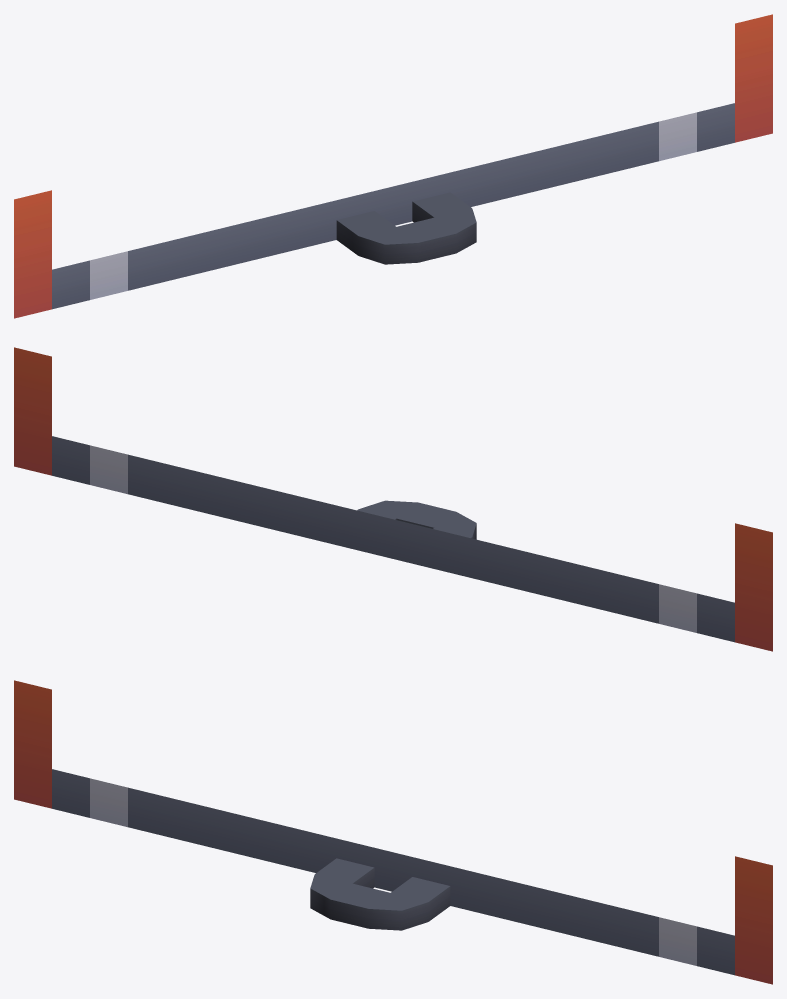
The model's file is kenney-toy-car-track-road-wide-cap-back.glb.
3 renders of one model, top to bottom at view 1: azimuth 30°, elevation 25°; view 2: azimuth 150°, elevation 25°; view 3: azimuth 330°, elevation 25°, orthographic.
Visible parts, largest first — view 1: track-road-wide-cap-back; view 2: track-road-wide-cap-back; view 3: track-road-wide-cap-back.
Boxes of the visible parts, left/top/right/bottom form: track-road-wide-cap-back: left=14, top=14, right=772, bottom=318; track-road-wide-cap-back: left=14, top=347, right=772, bottom=651; track-road-wide-cap-back: left=14, top=680, right=772, bottom=984.
Bounding box in the file's own units: 2 × 0.3001 × 0.2.
1 material, 1 textured.
